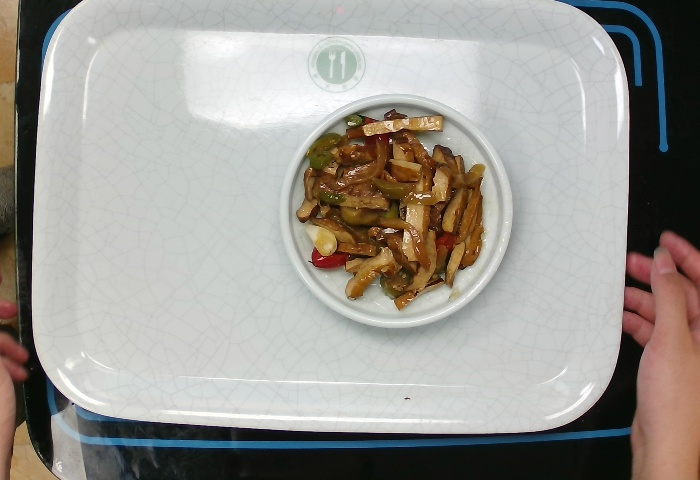JYsf-Xiao_Yuan_Pan: (275, 86, 517, 331)
